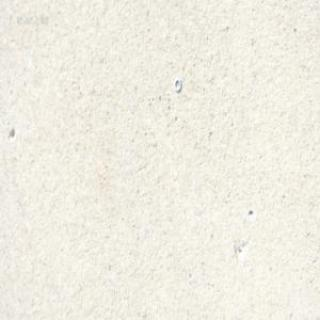Washertrack_idkeyframe: (172, 76, 180, 92)
